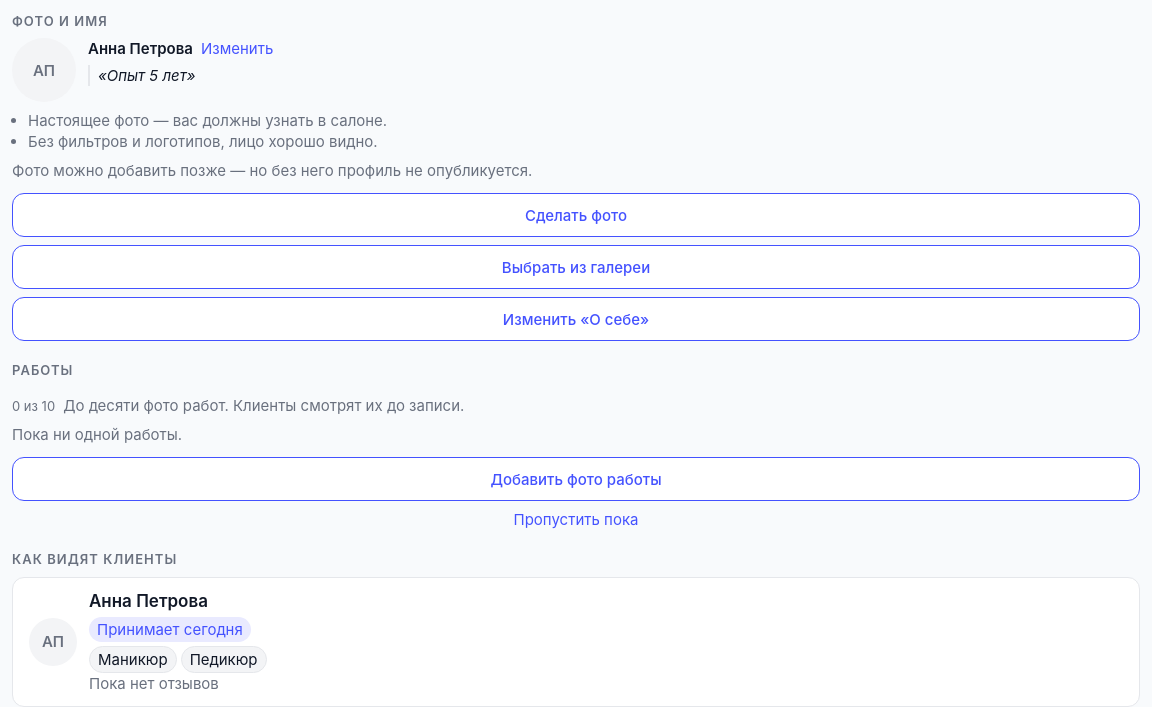
it: 6.3 — работы: счётчик и лимит из контракта, «Пропустить пока», удаление › W2: «Пропустить пока» на пустом портфолио сворачивает блок, запросов нет
Click the button "Пропустить пока". click: {"x": 576, "y": 520}
box: [12,509,1140,530]
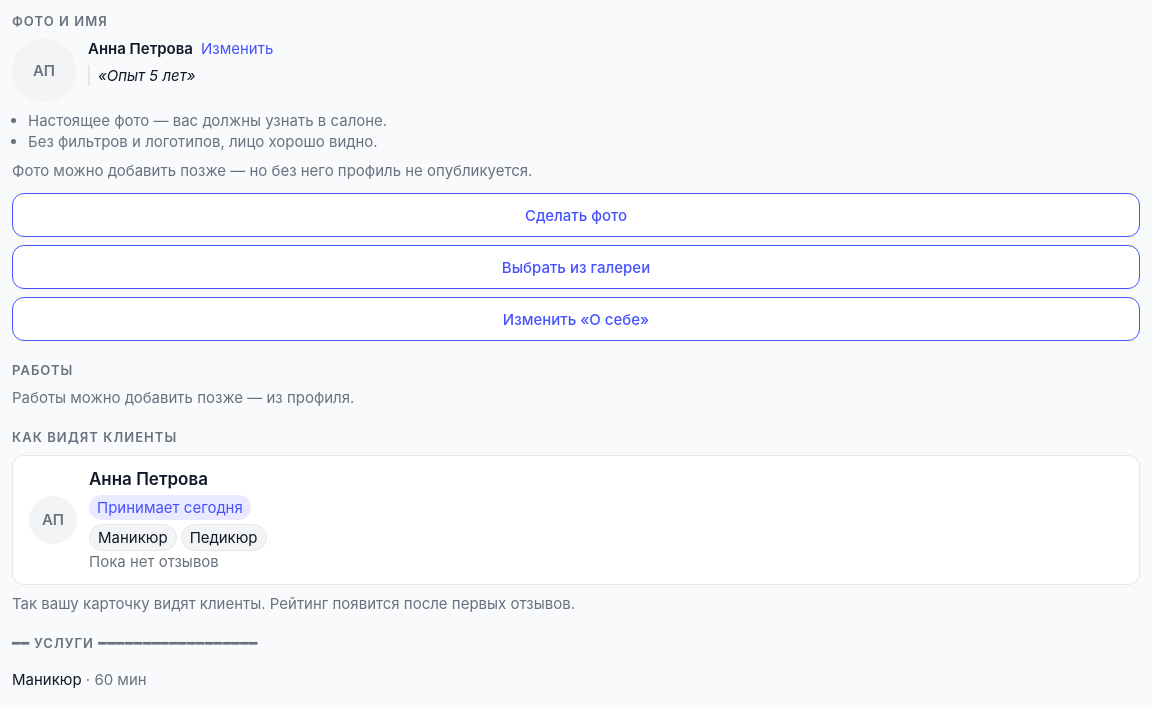
Result: the button "Добавить фото работы" is gone
Result: the text "Работы можно добавить позже — из профиля." is shown at [12,388,354,407]
